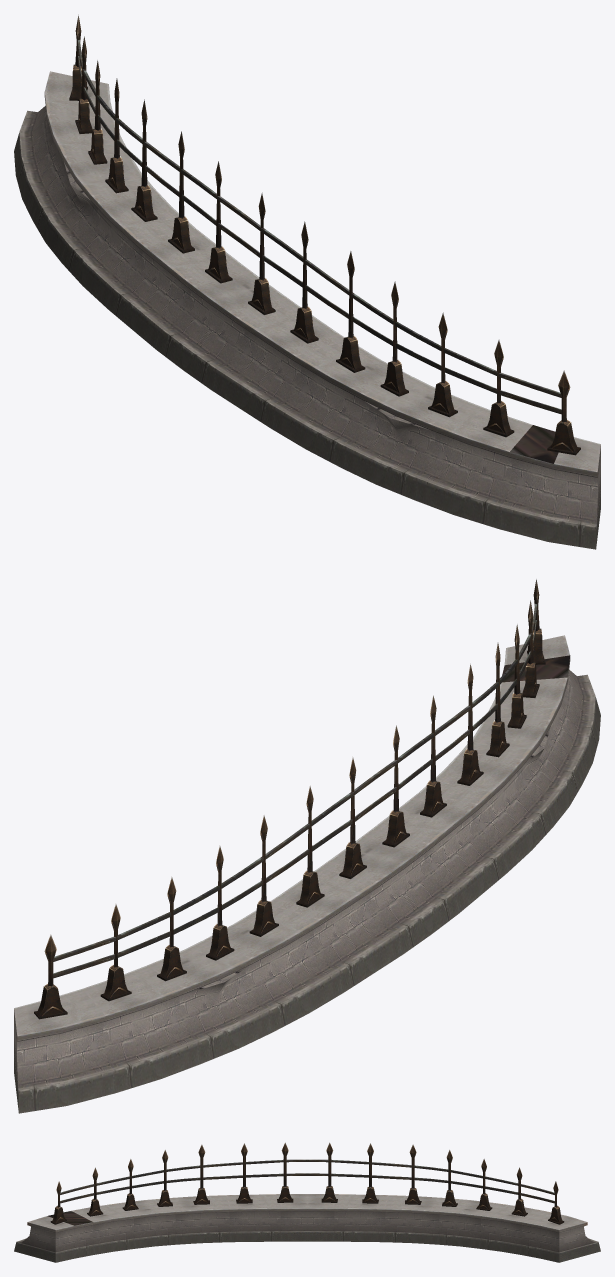
File: zc_zhanchang001_langan04_56_13_1376out.fbx
3 views of the same model, one above another, from view 1: azimuth 30°, elevation 25°; view 2: azimuth 150°, elevation 25°; view 3: azimuth 270°, elevation 25° (orthographic). The views are drawn at different scales.
Parts seen in each view (by area): view 1: zc_zhanchang001_langan04; view 2: zc_zhanchang001_langan04; view 3: zc_zhanchang001_langan04.
Boxes of the visible parts, box(x1,y1,x2,y2) form: zc_zhanchang001_langan04: box(14, 14, 600, 549); zc_zhanchang001_langan04: box(14, 579, 600, 1113); zc_zhanchang001_langan04: box(14, 1142, 600, 1262).
Bounding box in the file's own units: 3.68 × 3.69 × 21.29.
